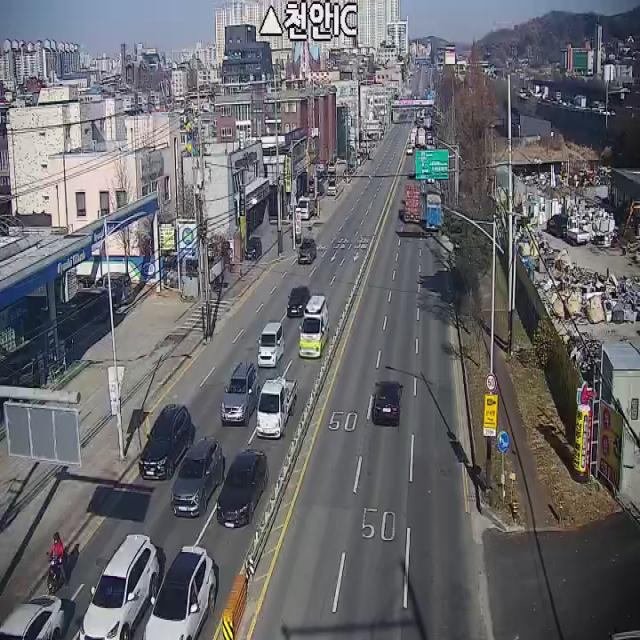Car: (79, 534, 159, 640), (142, 546, 216, 640), (170, 437, 223, 518), (138, 404, 192, 480), (217, 449, 268, 528), (0, 594, 64, 640), (256, 377, 298, 438), (220, 363, 260, 426), (299, 296, 329, 358), (90, 271, 134, 306), (257, 322, 284, 368), (373, 381, 403, 422), (287, 286, 310, 318), (297, 238, 317, 263), (246, 236, 262, 259), (296, 197, 312, 219), (328, 178, 338, 196)
Motorcycle: (49, 532, 67, 584)
Truck: (562, 218, 589, 245), (404, 183, 421, 222), (426, 190, 443, 229)
